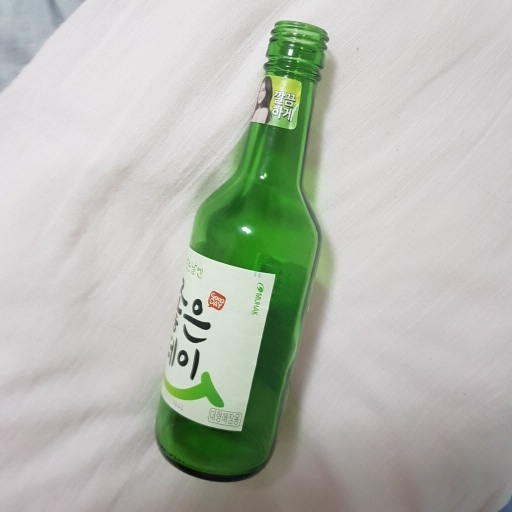Glass_0: (156, 20, 333, 488)
